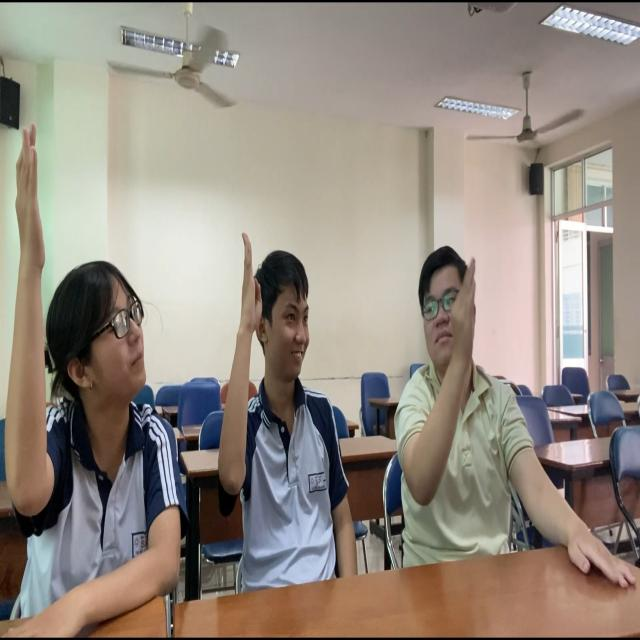raise_hand: (1, 104, 202, 640), (395, 215, 549, 572), (224, 226, 365, 587)
